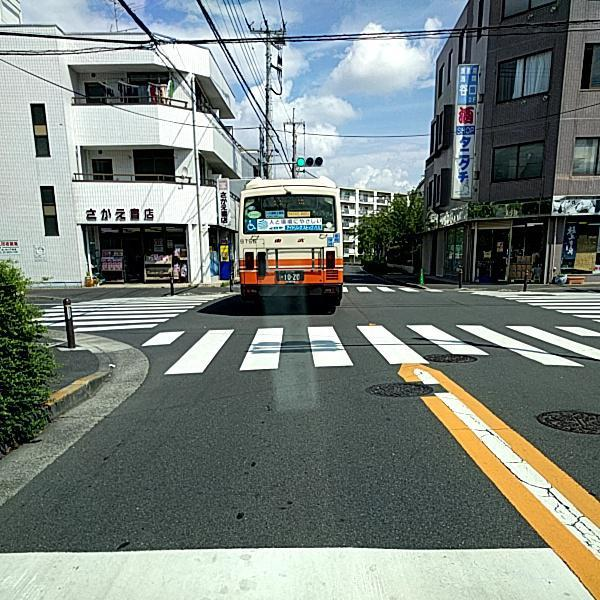D50: (537, 407, 599, 432), (361, 382, 438, 398), (420, 351, 478, 365)
